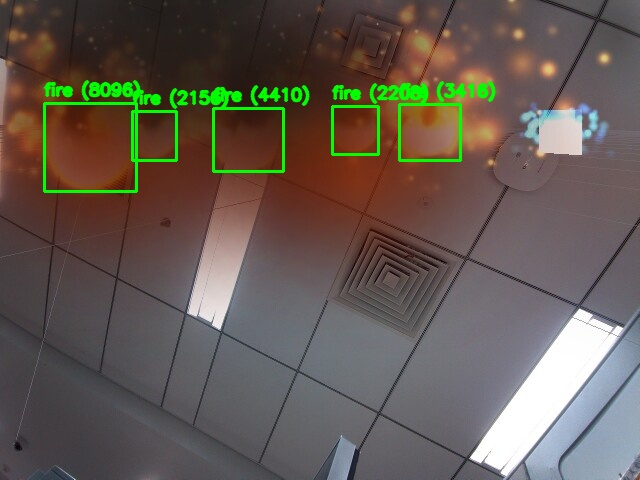fire: (44, 103, 136, 191), (213, 108, 283, 171), (399, 104, 460, 160), (332, 106, 378, 154), (132, 111, 176, 160)
